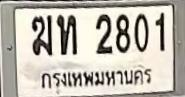0: (133, 13, 148, 52)
1: (154, 12, 164, 51)
2: (94, 14, 111, 54)
8: (115, 13, 130, 52)
A06: (30, 14, 52, 55)
A23: (56, 14, 76, 54)
BKK: (37, 64, 153, 91)
